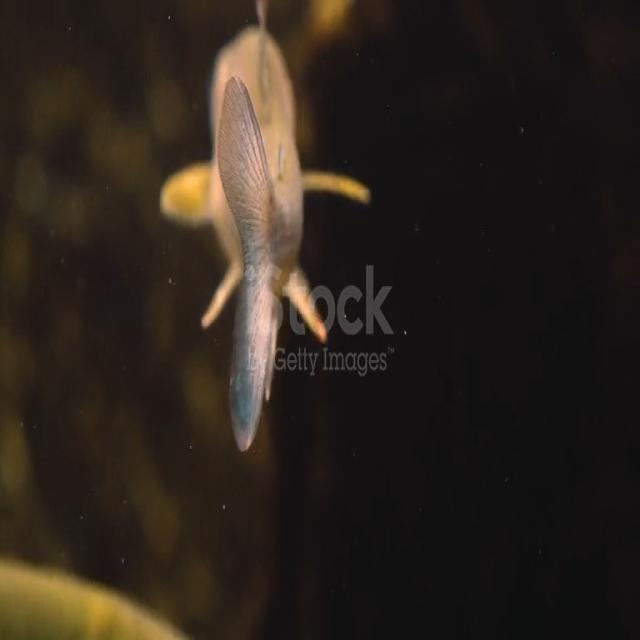fish: (155, 0, 375, 449)
